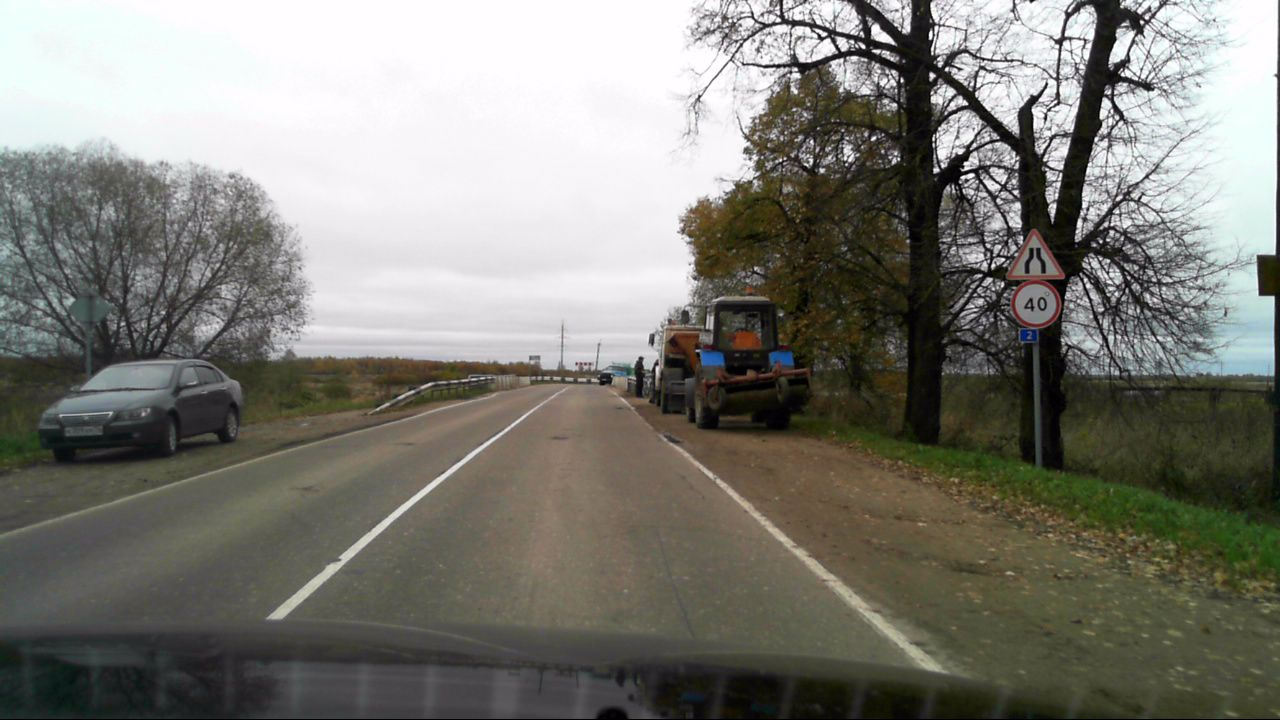speed_warning_40: (1010, 284, 1060, 327)
